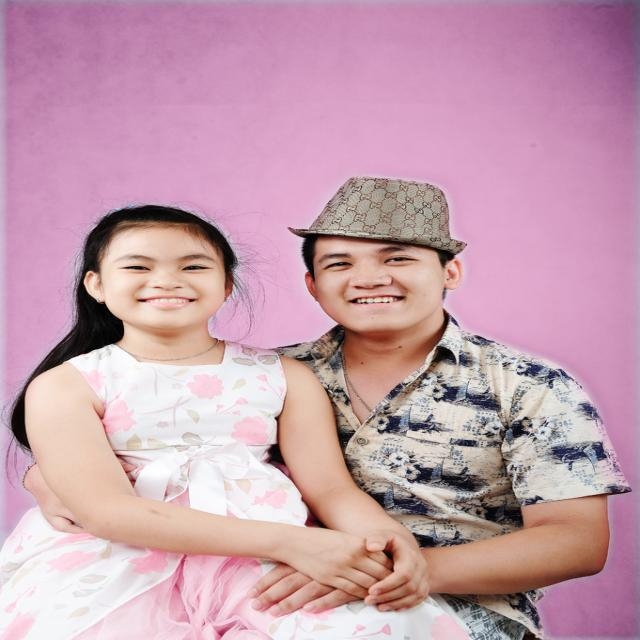Hat: (286, 176, 470, 254)
